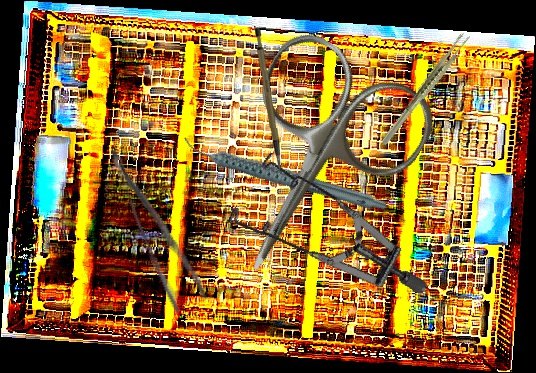Dressing Forceps: (106, 135, 211, 316)
Handpiece: (180, 98, 390, 250)
Iris Scissors: (178, 22, 445, 312)
Scalpel Handle: (252, 27, 283, 172)
Speculum: (206, 116, 431, 359)
Tissue Forceps: (363, 30, 487, 147)
